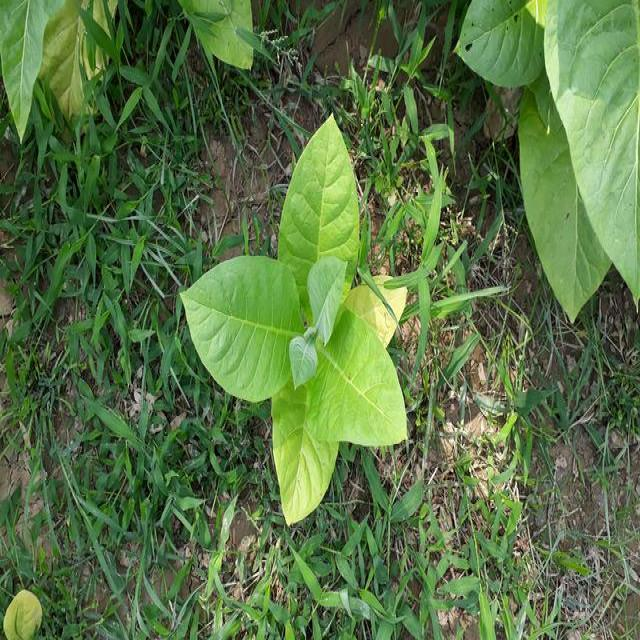crop: (178, 115, 410, 530)
